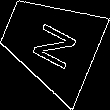N_NW: (22, 14, 78, 72)
